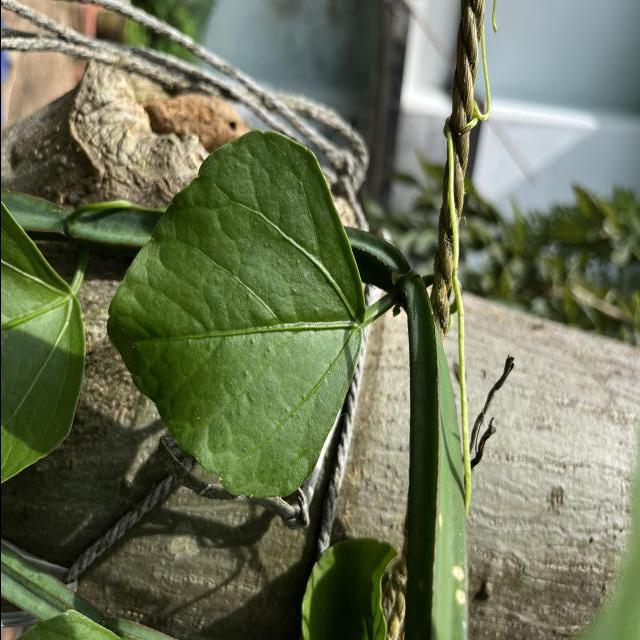Cissus quadrangularis: (102, 126, 370, 502)
